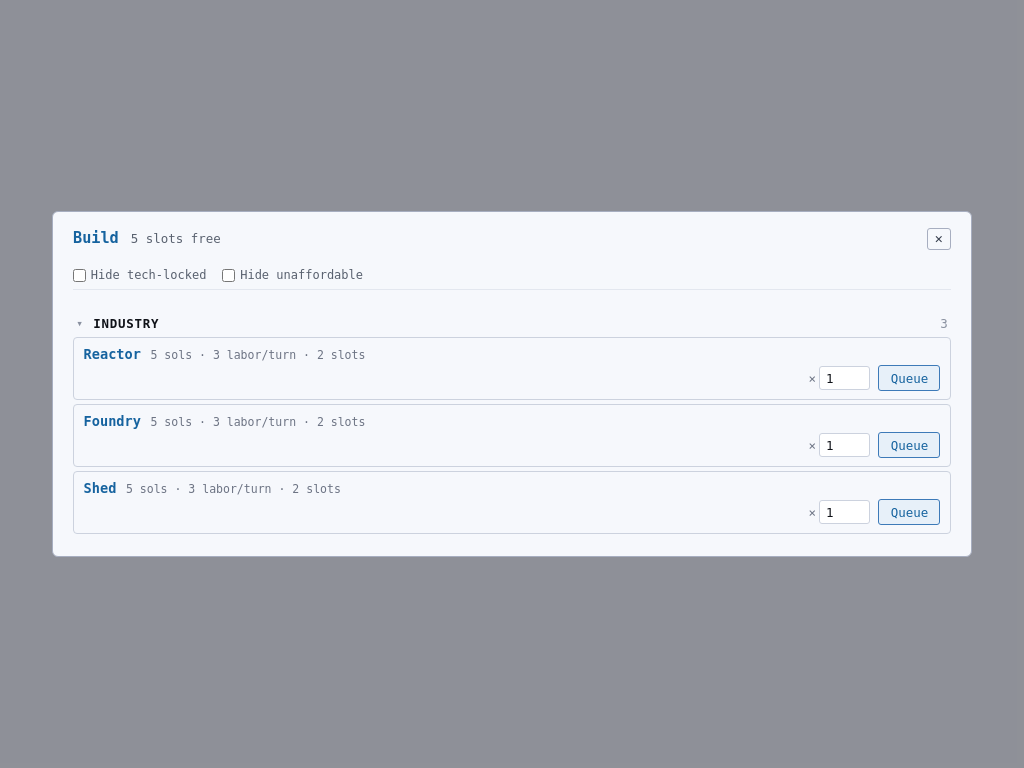
Scenario: BuildDialog catalogue filters › combines both filters
Click the checkbox with test id "filter-hide-tech-locked".
click(80, 275)  # box [73,269,86,282]
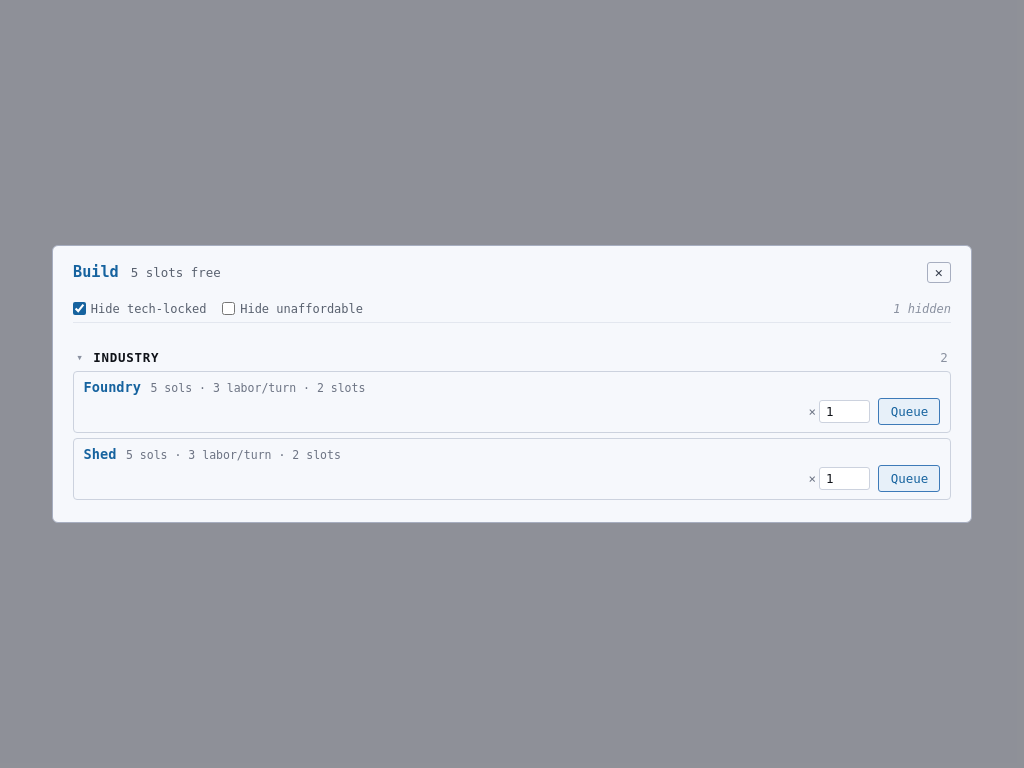
Click the checkbox with test id "filter-hide-unaffordable".
click(229, 309)  # box [222,302,235,315]
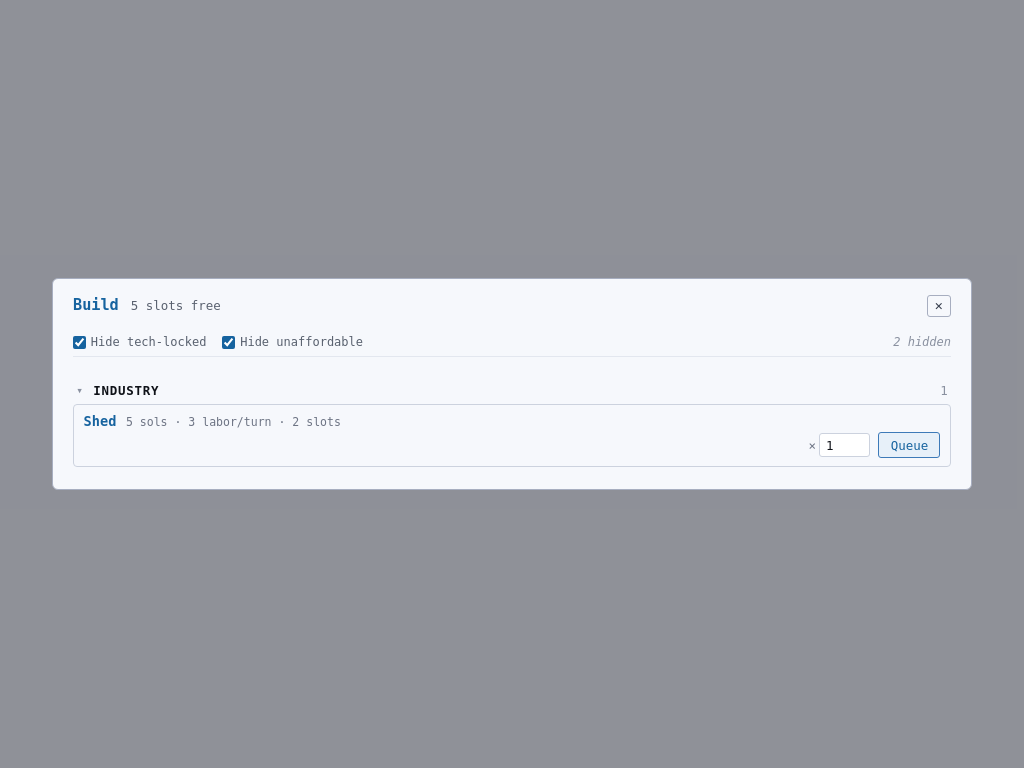
Expected: the text with test id "build-dialog-hidden-count" shows "2", [893,335,951,349]
